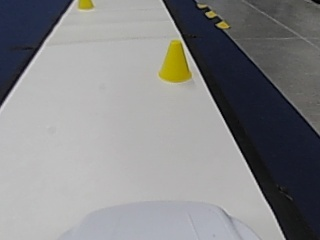cone: (159, 42, 192, 82)
